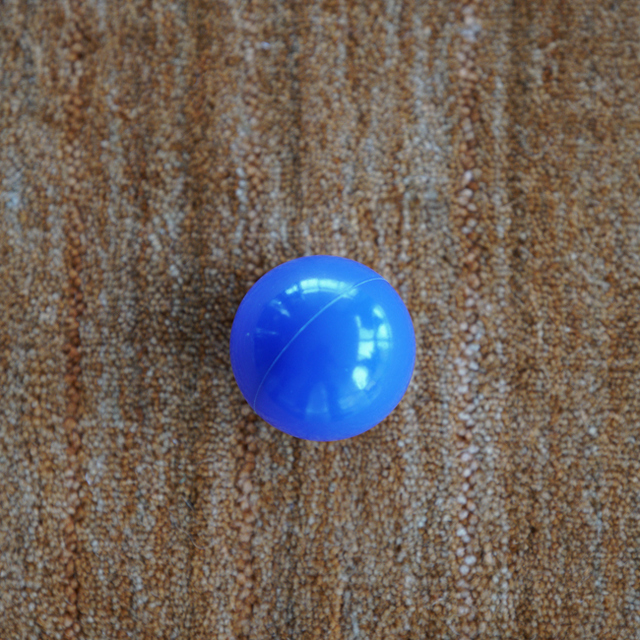Ball: (231, 256, 418, 442)
